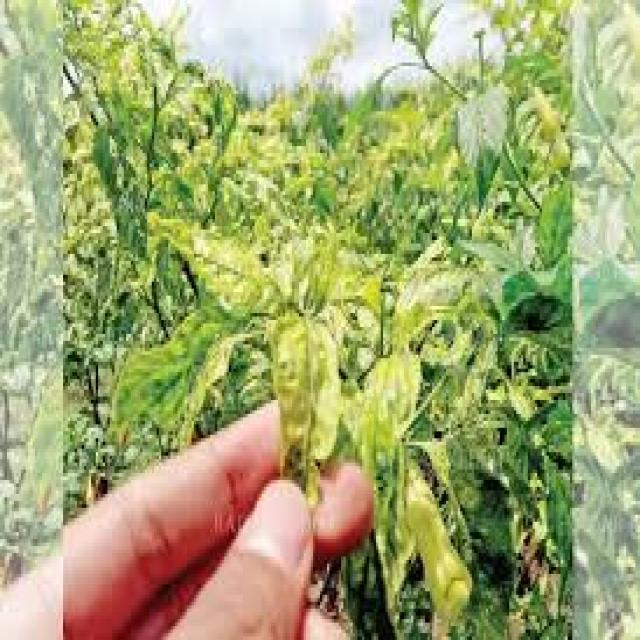virus_kuning: (272, 312, 343, 480), (408, 468, 474, 625), (355, 346, 430, 470)
